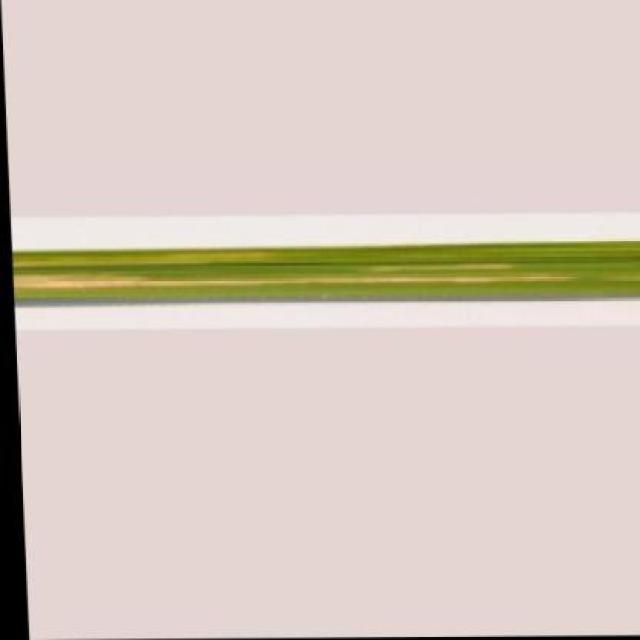Brown_Spot: (9, 242, 640, 309)
